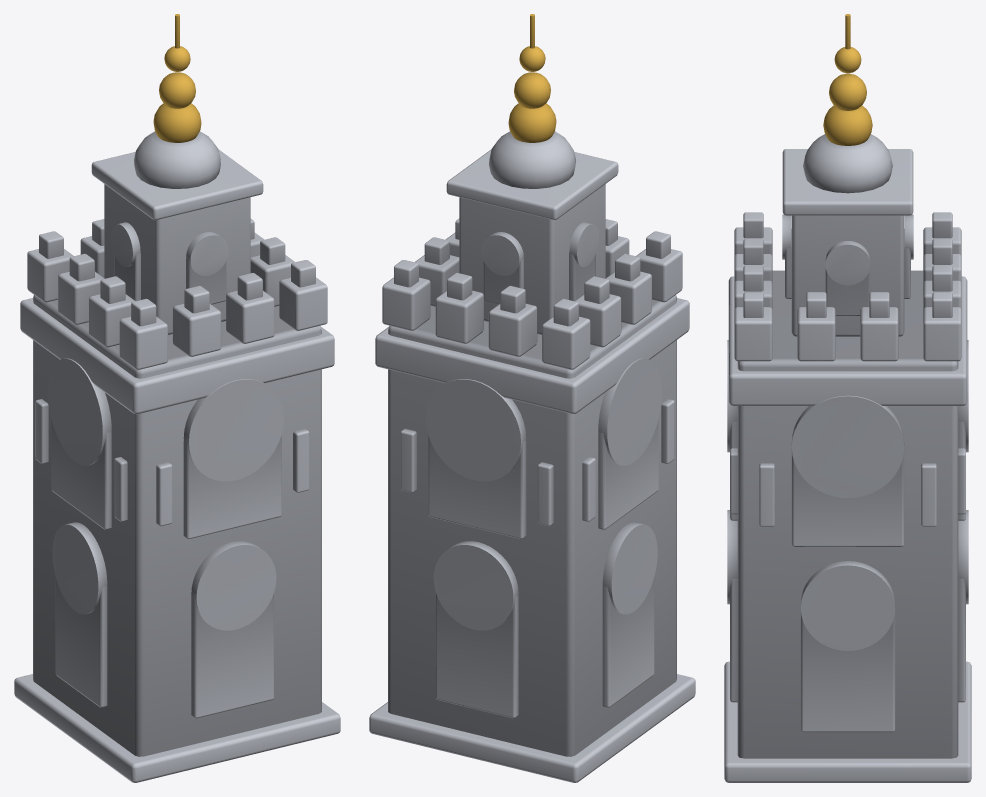
File: piece-4.glb
The picture shows the model from 3 angles, left to right: view 1: azimuth 30°, elevation 25°; view 2: azimuth 150°, elevation 25°; view 3: azimuth 270°, elevation 25°; orthographic projection. The views are drawn at different scales.
Parts seen in each view (by area): view 1: Cube; view 2: Cube; view 3: Cube.
Boxes of the visible parts, box(x1,y1,x2,y2) form: Cube: box(14, 14, 340, 782); Cube: box(369, 14, 695, 782); Cube: box(724, 14, 971, 782).
Size of the model in its own units: 0.814 by 2.6 by 0.814.
